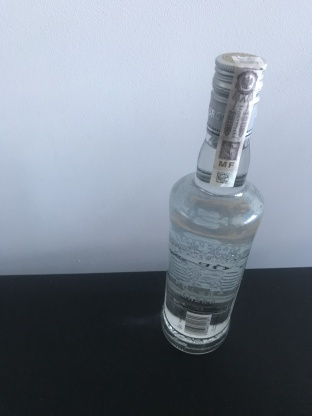nakretka: (204, 50, 268, 142)
